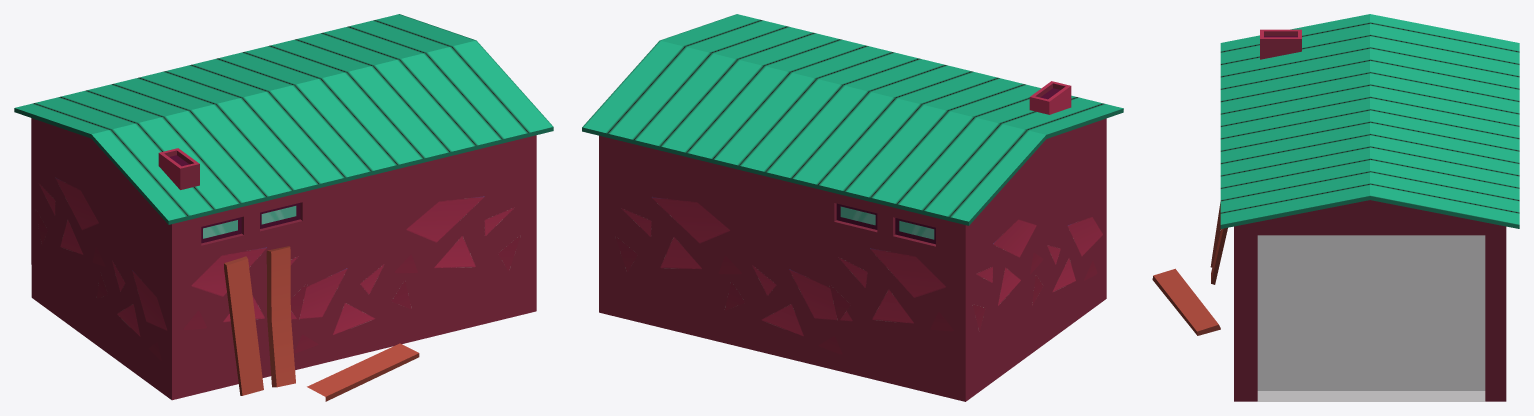
File: Garage2.fbx
The picture shows the model from 3 angles, left to right: view 1: azimuth 30°, elevation 25°; view 2: azimuth 150°, elevation 25°; view 3: azimuth 270°, elevation 25°; orthographic projection. The views are drawn at different scales.
Parts seen in each view (by area): view 1: Garage; view 2: Garage; view 3: Garage.
Boxes of the visible parts, left/top/right/bottom form: Garage: left=14, top=14, right=553, bottom=401; Garage: left=582, top=14, right=1123, bottom=401; Garage: left=1152, top=14, right=1519, bottom=401.
Bounding box in the file's own units: 445 × 243 × 379.
